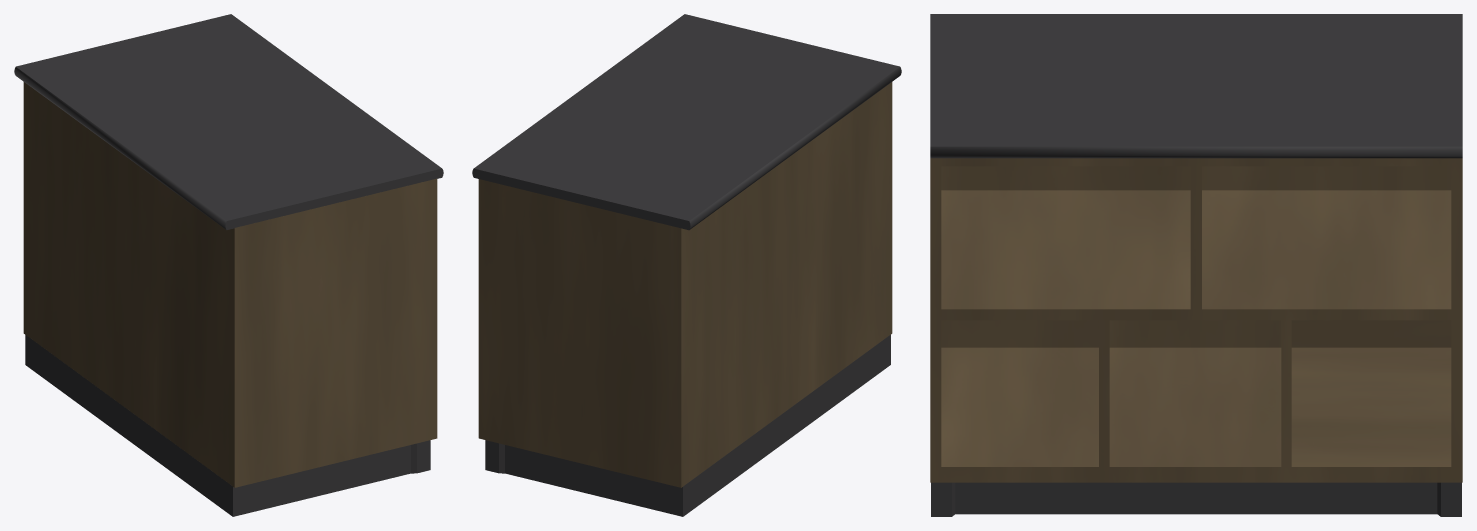
File: Cabinet3.fbx
3 renders of one model, left to right at view 1: azimuth 30°, elevation 25°; view 2: azimuth 150°, elevation 25°; view 3: azimuth 270°, elevation 25°, orthographic. The views are drawn at different scales.
Visible parts, largest first — view 1: Cabinet3, CabinetTop.001, CabinetBase; view 2: Cabinet3, CabinetTop.001, CabinetBase; view 3: Cabinet3, CabinetTop.001, CabinetBase.
Boxes of the visible parts, x1,y1,x2,y2 form: Cabinet3: (23,82,437,487); CabinetTop.001: (14,14,443,229); CabinetBase: (25,335,430,516); Cabinet3: (478,82,892,487); CabinetTop.001: (472,14,901,230); CabinetBase: (485,334,890,516); Cabinet3: (930,158,1462,482); CabinetTop.001: (930,14,1462,158); CabinetBase: (931,482,1461,516).
Bounding box in the file's own units: 2.15 × 2.82 × 3.61.
Materials: 2 (1 with a texture image).
